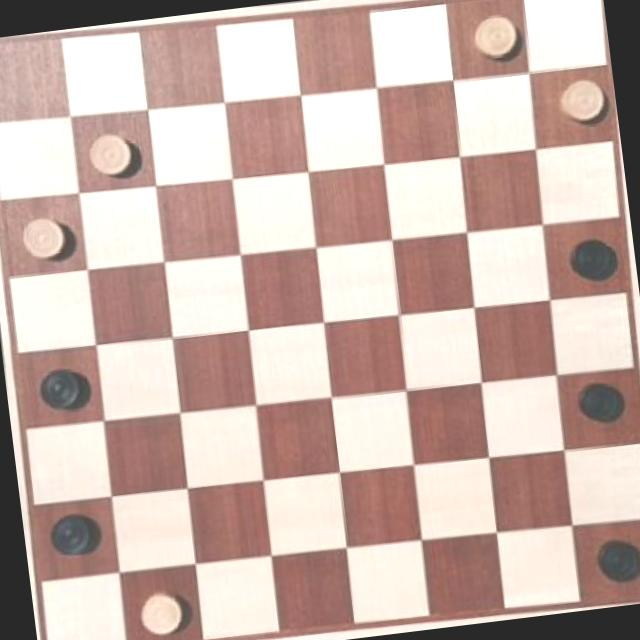BOARD: (0, 0, 640, 640)
black: (548, 222, 624, 293), (30, 354, 92, 421), (566, 366, 630, 430), (47, 502, 103, 566), (586, 531, 640, 584)
white: (542, 70, 612, 134), (11, 196, 72, 266), (78, 120, 142, 185), (127, 578, 193, 640), (465, 4, 525, 69)
